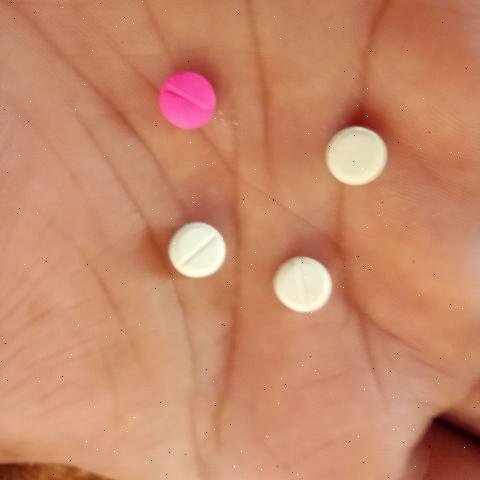Pill: (310, 101, 403, 199), (256, 249, 354, 339), (158, 187, 244, 289)
